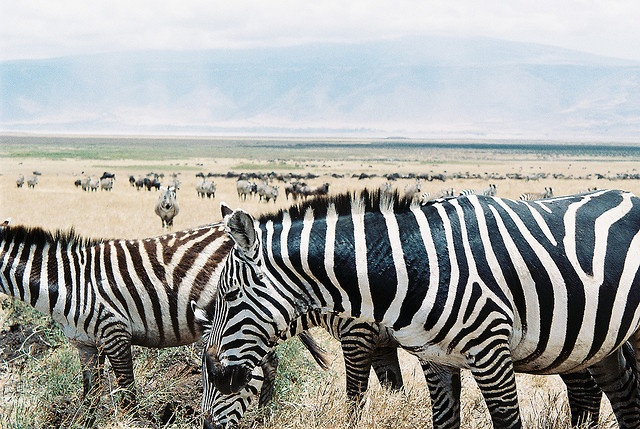zebra: (205, 183, 639, 429), (1, 221, 230, 411)
